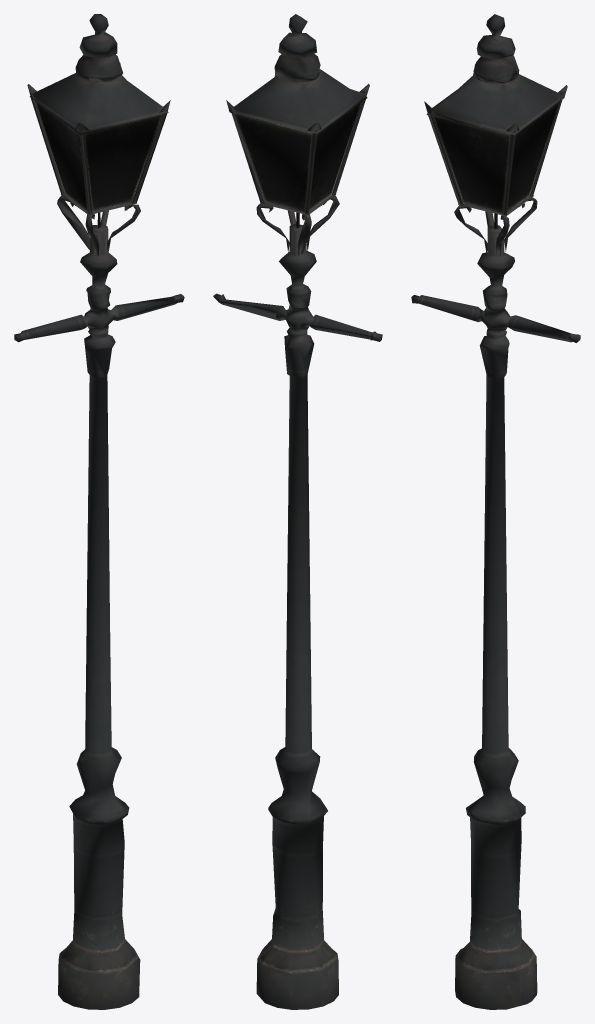
The model's file is street_lamp_01.glb.
3 renders of one model, left to right at view 1: azimuth 30°, elevation 25°; view 2: azimuth 150°, elevation 25°; view 3: azimuth 330°, elevation 25°, orthographic.
Parts seen in each view (by area): view 1: street_lamp_01; view 2: street_lamp_01; view 3: street_lamp_01.
Boxes of the visible parts, <box> form: street_lamp_01: <box>14,14,184,1009</box>; street_lamp_01: <box>213,14,382,1009</box>; street_lamp_01: <box>411,14,580,1009</box>.
Size of the model in its own units: 0.6965 by 3.87 by 0.3855.
2 materials, 2 textured.
